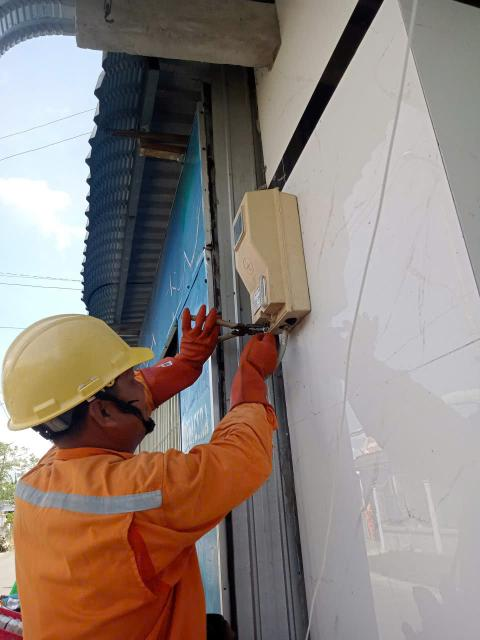gloves: (133, 303, 223, 397), (223, 323, 297, 416)
helmet: (0, 281, 154, 435)
